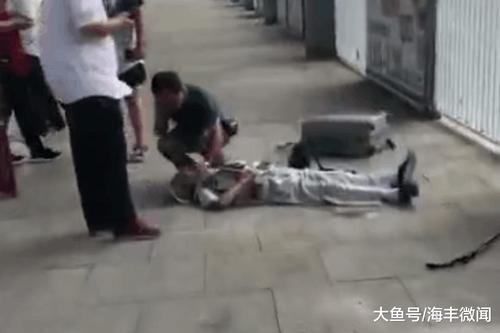falling: (165, 146, 423, 217)
